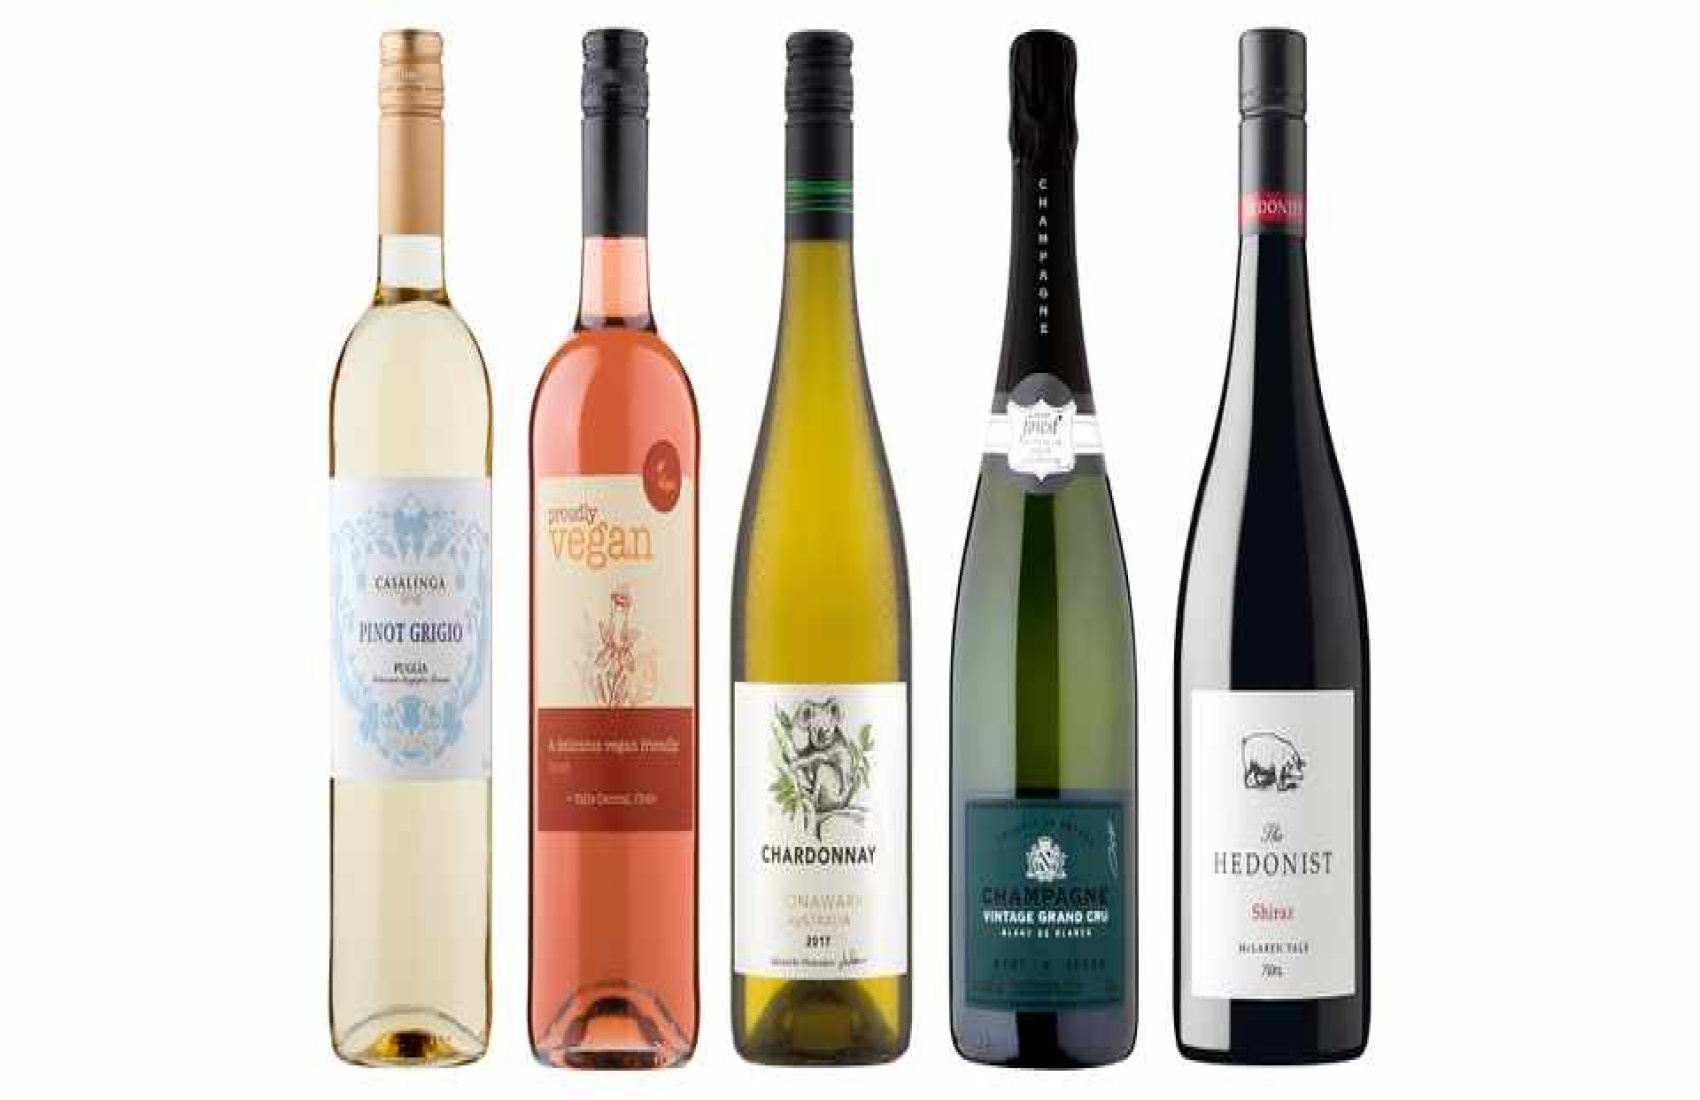wine: (1178, 59, 1357, 1062), (320, 77, 493, 1068), (529, 76, 703, 1067), (735, 64, 908, 1055), (957, 69, 1130, 1060)
